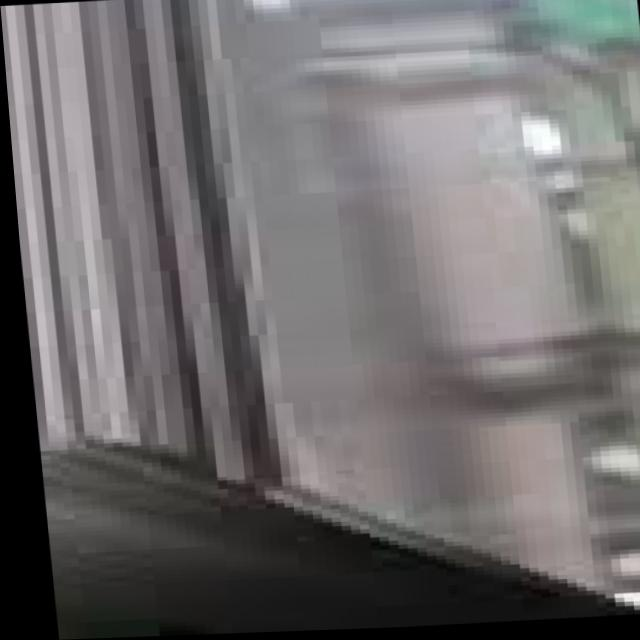metal-plates: (1, 1, 608, 633)
